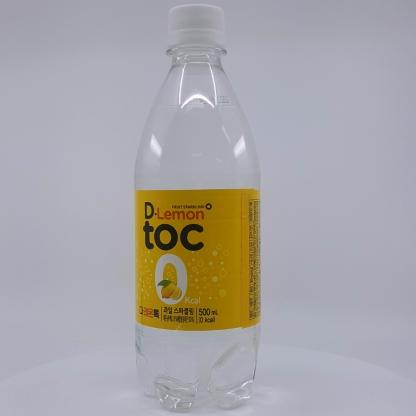------500ML: (134, 4, 261, 410)
